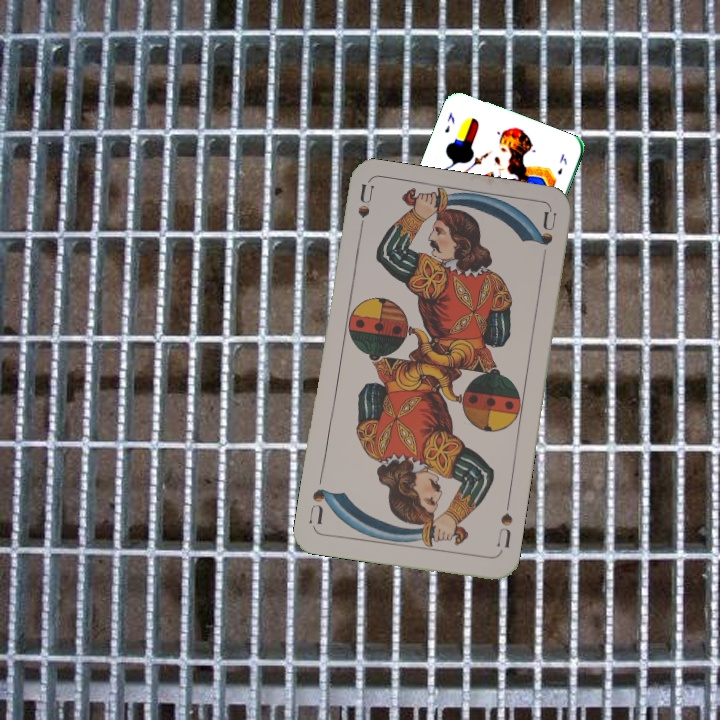EK: (440, 108, 457, 135)
SU: (354, 182, 376, 241), (493, 497, 515, 551)
